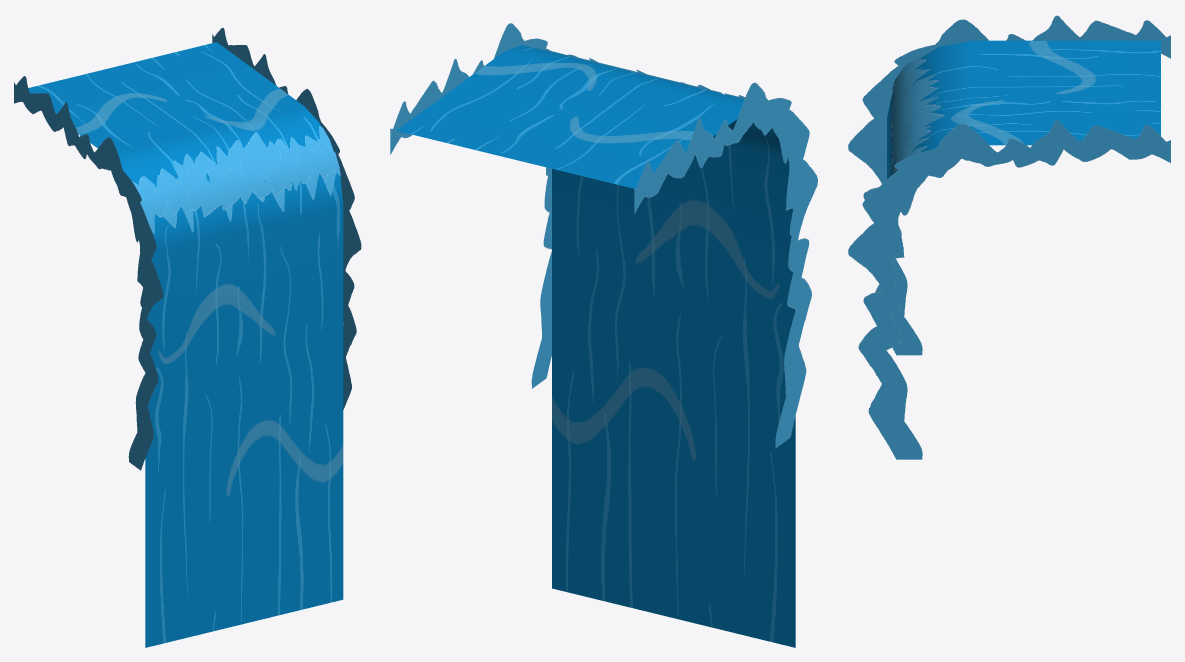
Rendered from Water_fall_trim_Test.fbx.
3 views of the same model, side by side, from view 1: azimuth 30°, elevation 25°; view 2: azimuth 150°, elevation 25°; view 3: azimuth 270°, elevation 25° (orthographic). The views are drawn at different scales.
Visible parts, largest first — view 1: River_Main, Foam, Shimmer_Top, Shimmer, Foam1; view 2: River_Main, Foam, Foam1; view 3: River_Main, Foam1, Foam, Shimmer, Shimmer_Top.
Part boxes in pixels (left/top/right/bottom): River_Main: left=28, top=42, right=343, bottom=647; Foam: left=14, top=76, right=163, bottom=470; Shimmer_Top: left=138, top=139, right=340, bottom=220; Shimmer: left=132, top=126, right=335, bottom=233; Foam1: left=212, top=27, right=361, bottom=409; River_Main: left=396, top=45, right=795, bottom=647; Foam: left=634, top=82, right=817, bottom=447; Foam1: left=390, top=23, right=551, bottom=388; River_Main: left=887, top=40, right=1160, bottom=178; Foam1: left=848, top=120, right=1170, bottom=459; Foam: left=848, top=15, right=1170, bottom=355; Shimmer: left=887, top=49, right=944, bottom=179; Shimmer_Top: left=890, top=58, right=924, bottom=172.
Bounding box in the file's own units: 497 × 1172 × 650.
1 material, 1 textured.
